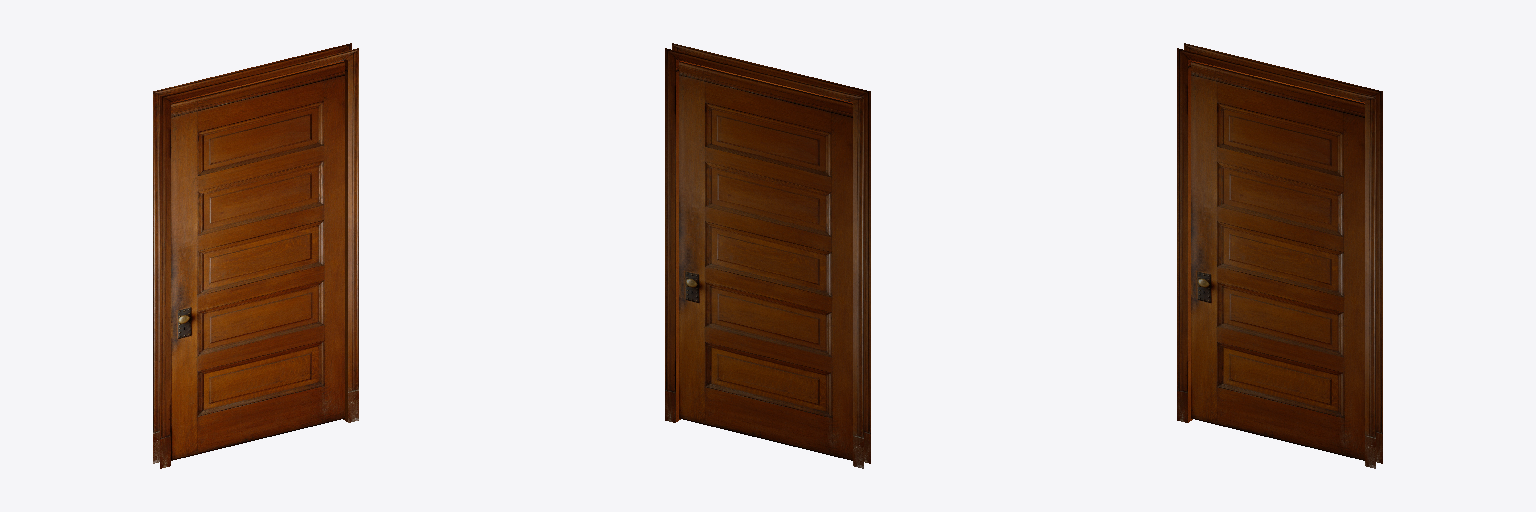
3 renders of one model, left to right at view 1: azimuth 30°, elevation 25°; view 2: azimuth 150°, elevation 25°; view 3: azimuth 330°, elevation 25°, orthographic.
Visible parts, largest first — view 1: InteriorDoor, InteriorDoorProfile; view 2: InteriorDoor, InteriorDoorProfile; view 3: InteriorDoor, InteriorDoorProfile.
Boxes of the visible parts, x1=… form: InteriorDoor: x1=171, y1=61, x2=344, y2=460; InteriorDoorProfile: x1=153, y1=43, x2=358, y2=468; InteriorDoor: x1=679, y1=61, x2=852, y2=460; InteriorDoorProfile: x1=665, y1=43, x2=870, y2=468; InteriorDoor: x1=1191, y1=61, x2=1364, y2=460; InteriorDoorProfile: x1=1177, y1=43, x2=1382, y2=468.
Size of the model in its own units: 22.32 by 39.92 by 1.35.
Materials: 1 (1 with a texture image).